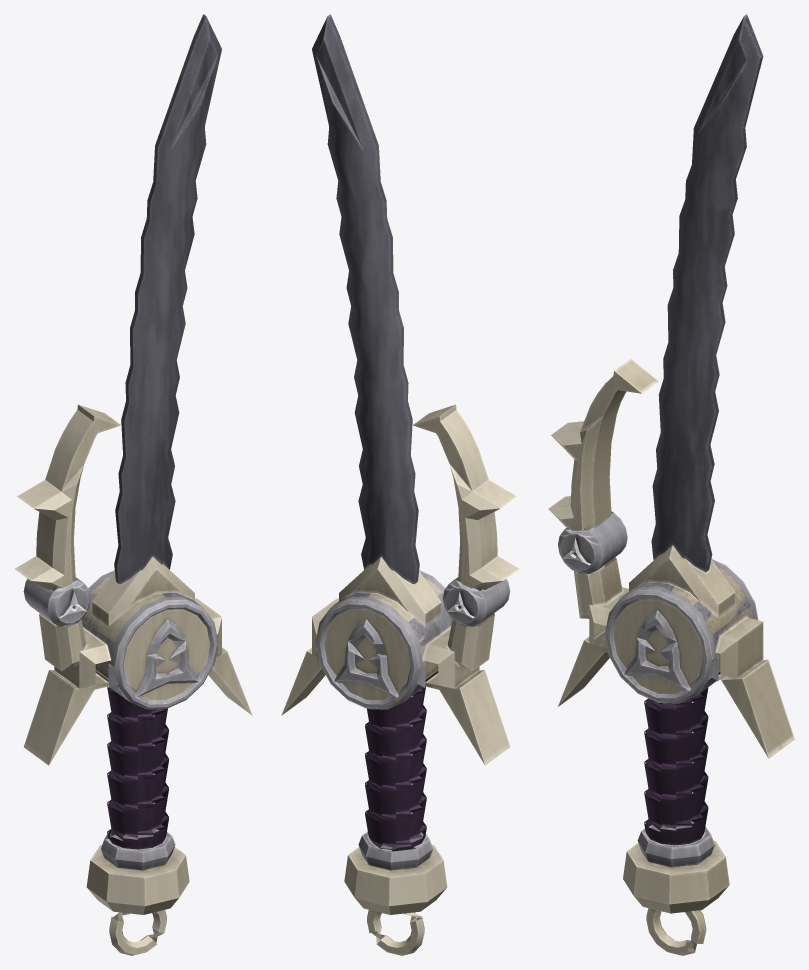
Rendered from Twin Shivs.fbx.
The picture shows the model from 3 angles, left to right: view 1: azimuth 30°, elevation 25°; view 2: azimuth 150°, elevation 25°; view 3: azimuth 330°, elevation 25°; orthographic projection. The views are drawn at different scales.
Parts seen in each view (by area): view 1: Twin Shivs_Body; view 2: Twin Shivs_Body; view 3: Twin Shivs_Body.
Part boxes in pixels (left/top/right/bottom): Twin Shivs_Body: left=15, top=14, right=252, bottom=955; Twin Shivs_Body: left=281, top=14, right=518, bottom=955; Twin Shivs_Body: left=548, top=14, right=794, bottom=955.
Size of the model in its own units: 0.8455 by 3.43 by 0.35.
